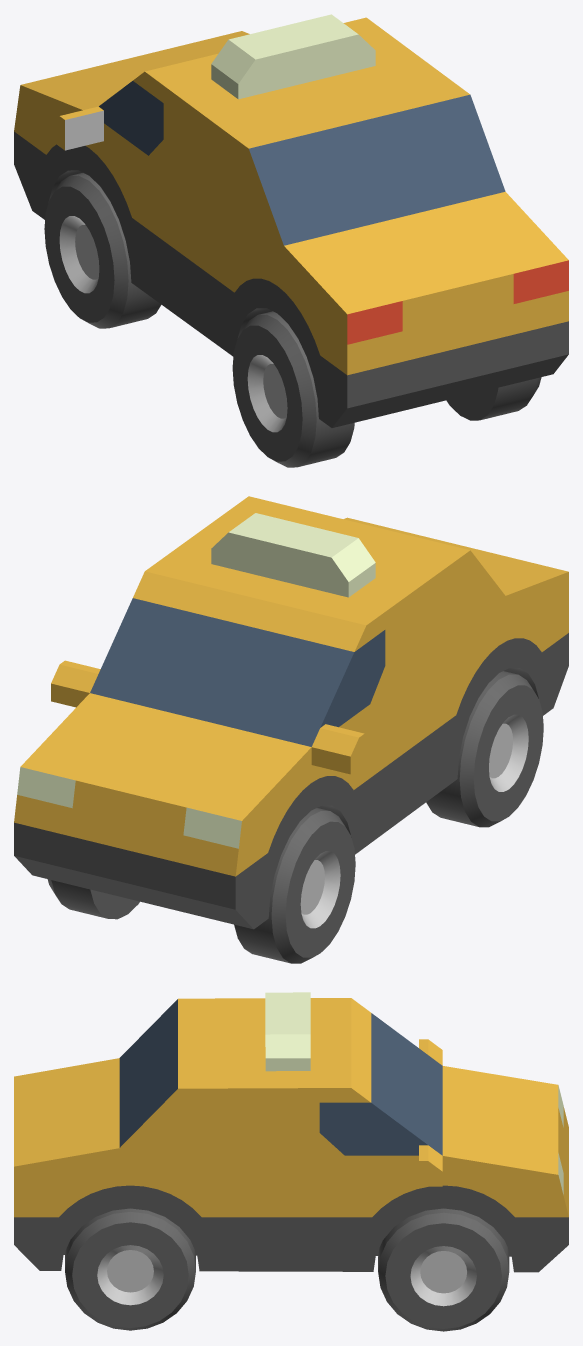
Rendered from carTaxi.fbx.
3 views of the same model, one above another, from view 1: azimuth 30°, elevation 25°; view 2: azimuth 150°, elevation 25°; view 3: azimuth 270°, elevation 25° (orthographic). The views are drawn at different scales.
Visible parts, largest first — view 1: body 10, wheelBackLeft 10, wheelFrontLeft 10, wheelBackRight 10; view 2: body 10, wheelFrontLeft 10, wheelBackLeft 10, wheelFrontRight 10; view 3: body 10, wheelFrontRight 10, wheelBackRight 10.
Boxes of the visible parts, left/top/right/bottom form: body 10: left=14, top=14, right=568, bottom=427; wheelBackLeft 10: left=232, top=311, right=354, bottom=467; wheelFrontLeft 10: left=44, top=173, right=161, bottom=328; wheelBackRight 10: left=446, top=377, right=541, bottom=420; body 10: left=14, top=496, right=568, bottom=929; wheelFrontLeft 10: left=234, top=808, right=355, bottom=963; wheelBackLeft 10: left=426, top=671, right=543, bottom=827; wheelFrontRight 10: left=47, top=879, right=139, bottom=919; body 10: left=14, top=992, right=568, bottom=1272; wheelFrontRight 10: left=378, top=1208, right=509, bottom=1331; wheelBackRight 10: left=65, top=1208, right=195, bottom=1330.
Bounding box in the file's own units: 6.15 × 6.46 × 11.85.
